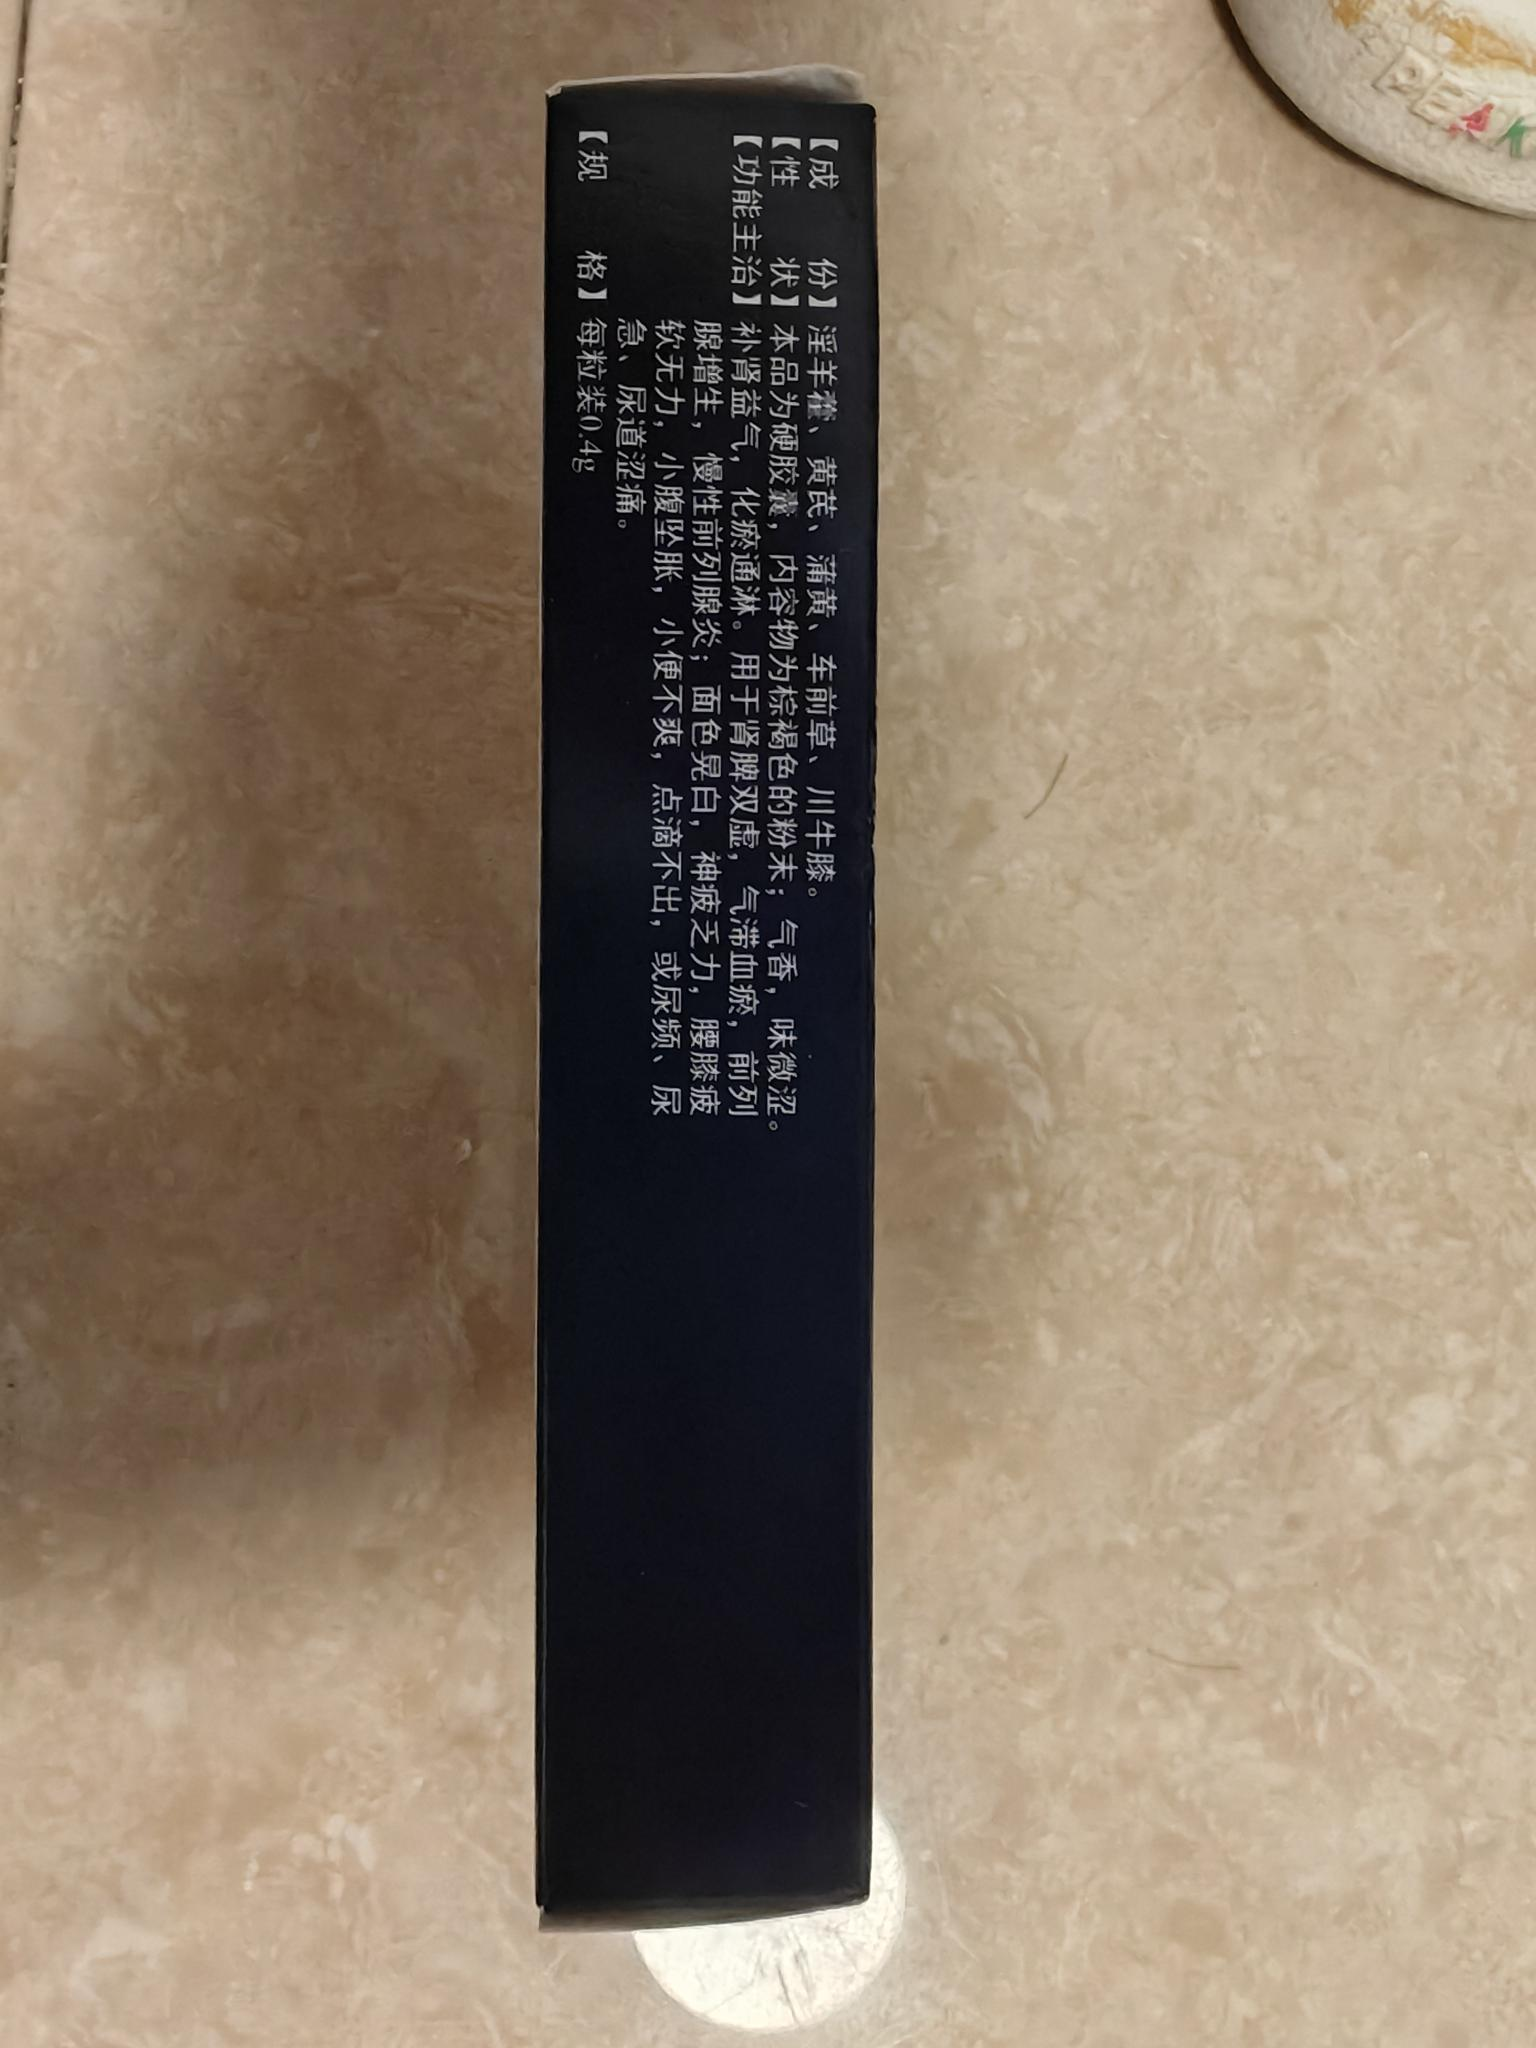Medicine2: (505, 50, 900, 1951)
